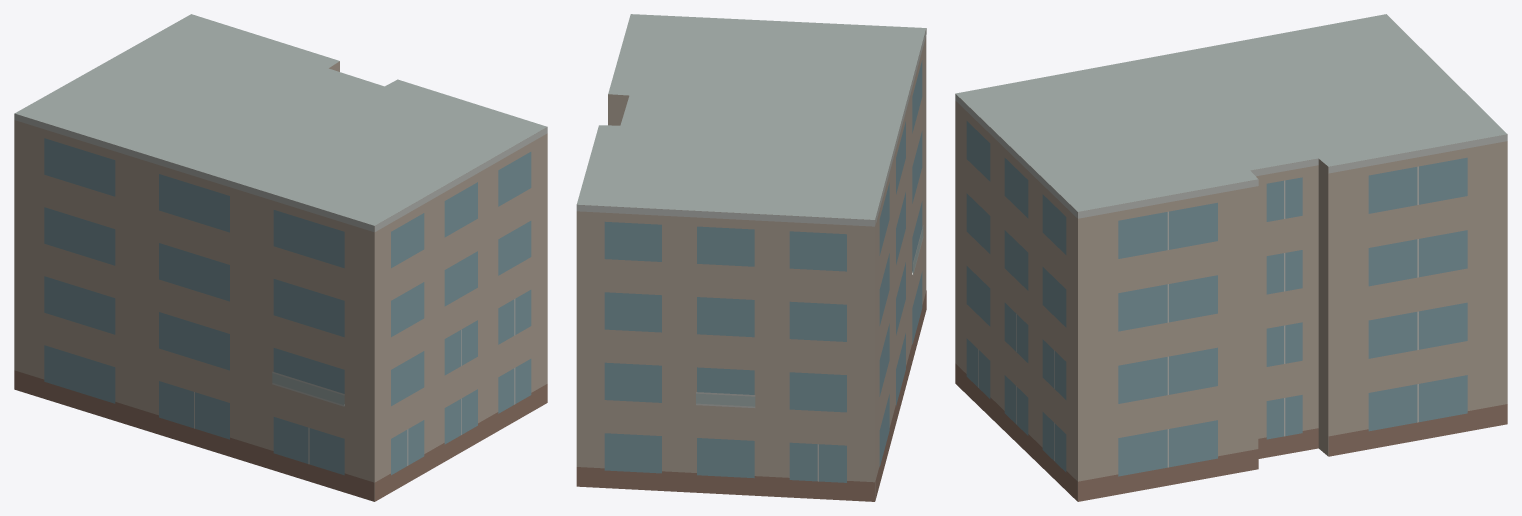
The model's file is survey-upis-32659104.glb.
The picture shows the model from 3 angles, left to right: view 1: azimuth 30°, elevation 25°; view 2: azimuth 150°, elevation 25°; view 3: azimuth 270°, elevation 25°; orthographic projection. The views are drawn at different scales.
Parts seen in each view (by area): view 1: survey-upis-32659104.tmp; view 2: survey-upis-32659104.tmp; view 3: survey-upis-32659104.tmp.
Boxes of the visible parts, bbox=[...] form: survey-upis-32659104.tmp: bbox=[14, 14, 547, 501]; survey-upis-32659104.tmp: bbox=[576, 14, 926, 501]; survey-upis-32659104.tmp: bbox=[955, 14, 1507, 501].
Size of the model in its own units: 15.24 by 10.4 by 17.97.
